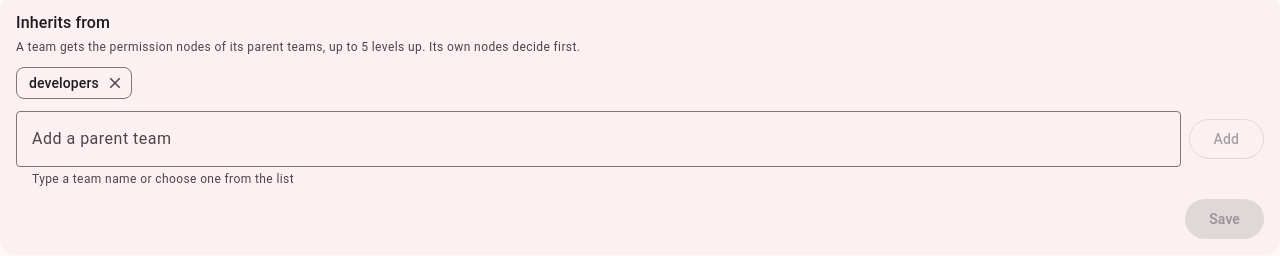
Test case: TeamParentsCard › adding a parent › refuses a team that is already a parent
The width and height of the screenshot is (1280, 256).
Type "developers" into the dropdown labelled "Add a parent team" at (598, 139), box x1=16 y1=111 x2=1181 y2=167
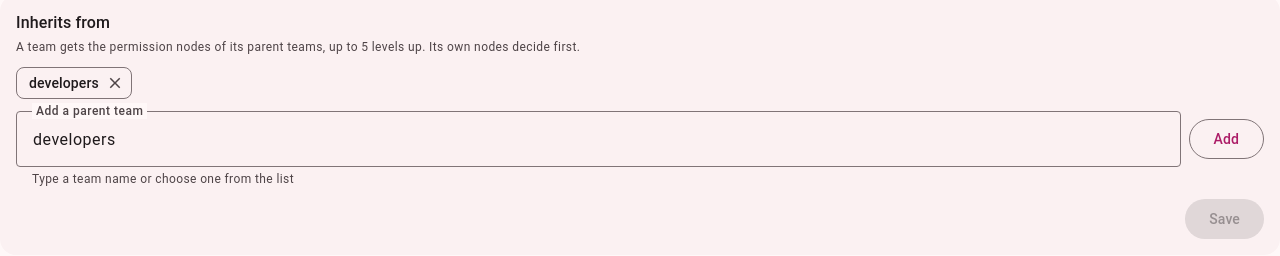
Press Enter in the dropdown labelled "Add a parent team", box x1=16 y1=111 x2=1181 y2=167
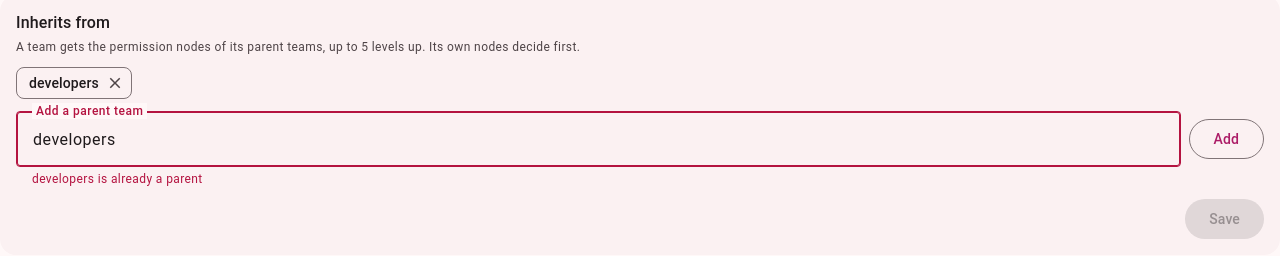
Check: the text "developers is already a parent" is shown, box x1=32 y1=172 x2=203 y2=186
